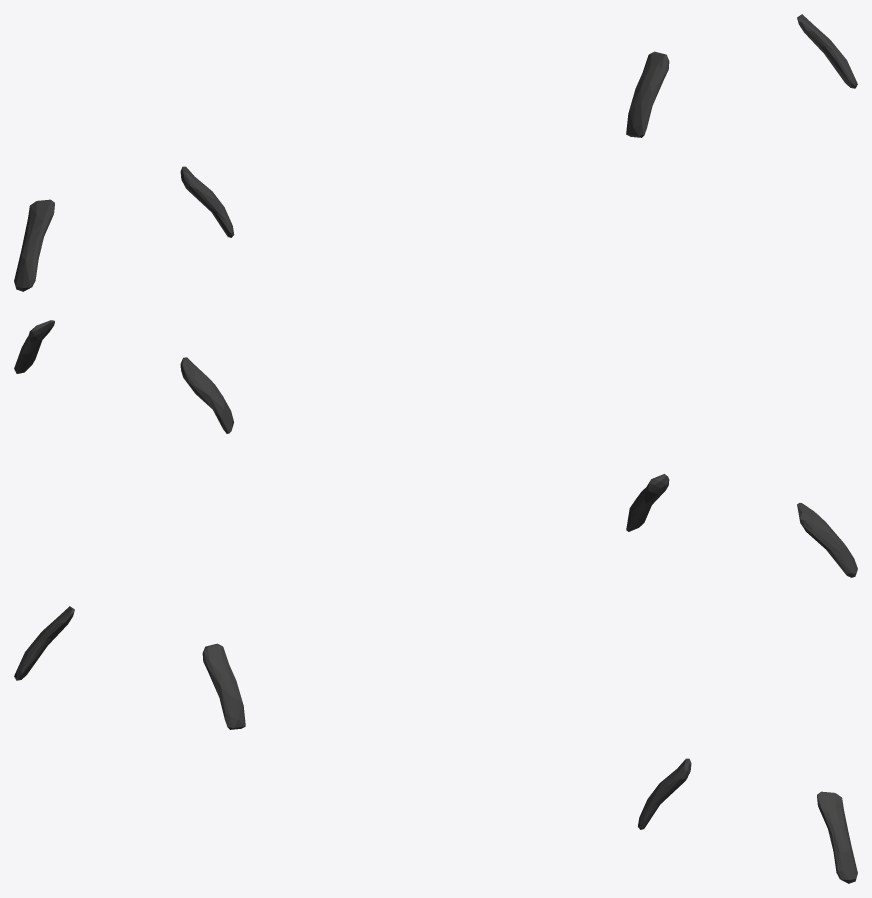
Rendered from lig_collateral_coffin_joint_FL.glb.
3 renders of one model, top to bottom at view 1: azimuth 30°, elevation 25°; view 2: azimuth 150°, elevation 25°; view 3: azimuth 330°, elevation 25°, orthographic.
Visible parts, largest first — view 1: lig_collateral_coffin_joint_FL; view 2: lig_collateral_coffin_joint_FL; view 3: lig_collateral_coffin_joint_FL.
Part boxes in pixels (x1,y1,x2,y2): lig_collateral_coffin_joint_FL: (14,14,857,291); lig_collateral_coffin_joint_FL: (14,320,857,577); lig_collateral_coffin_joint_FL: (14,606,857,883).
Size of the model in its own units: 0.00449 by 0.000375 by 0.000245.
Materials: 1 (1 with a texture image).
